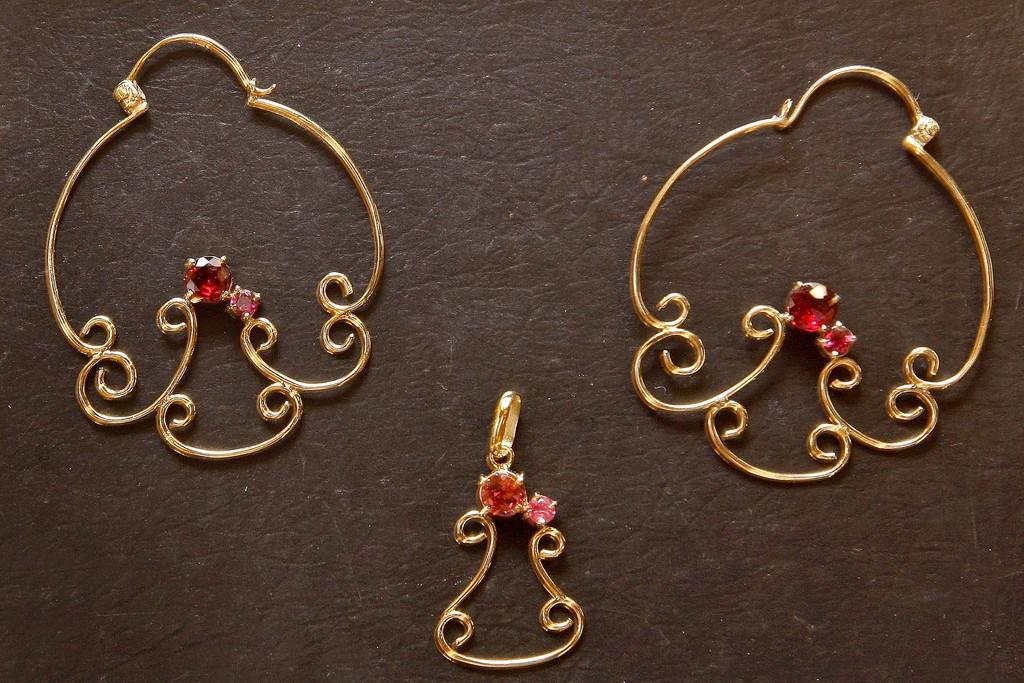earring: (624, 56, 994, 483), (39, 23, 384, 460)
